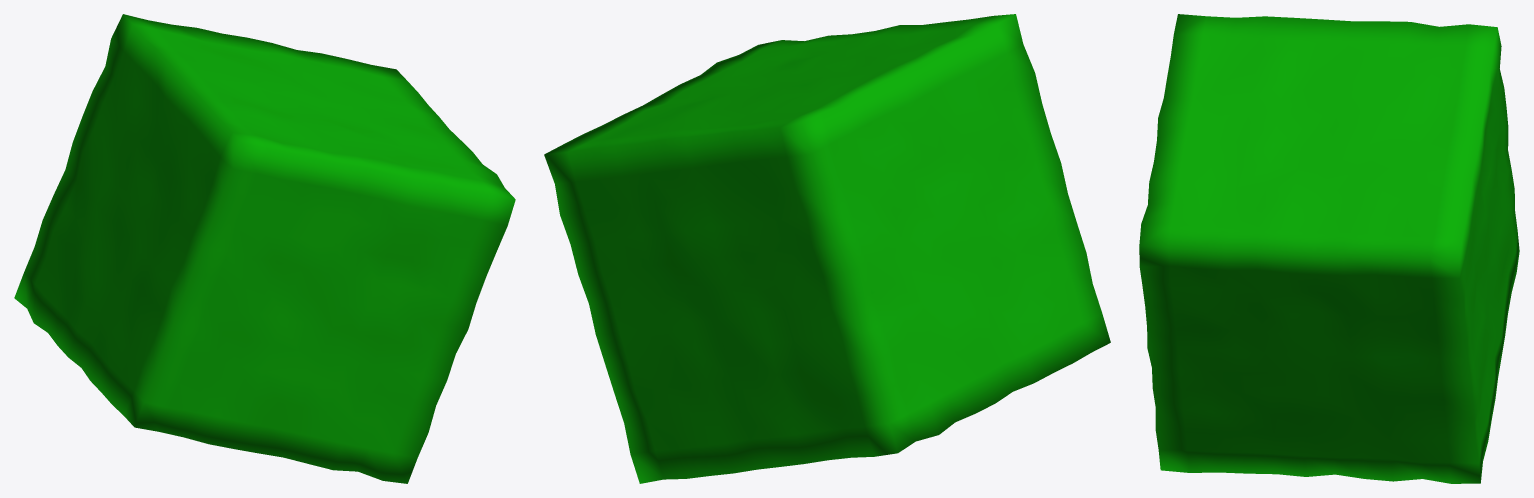
The model's file is jelly_green.glb.
3 renders of one model, left to right at view 1: azimuth 30°, elevation 25°; view 2: azimuth 150°, elevation 25°; view 3: azimuth 270°, elevation 25°, orthographic. The views are drawn at different scales.
Visible parts, largest first — view 1: jelly_green; view 2: jelly_green; view 3: jelly_green.
Boxes of the visible parts, x1,y1,x2,y2 form: jelly_green: (14,14,515,483); jelly_green: (544,14,1110,483); jelly_green: (1139,14,1519,483).
Size of the model in its own units: 0.8292 by 0.7718 by 0.6895.
